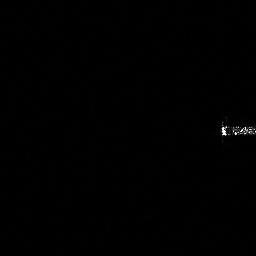ship: (217, 122, 256, 137)
